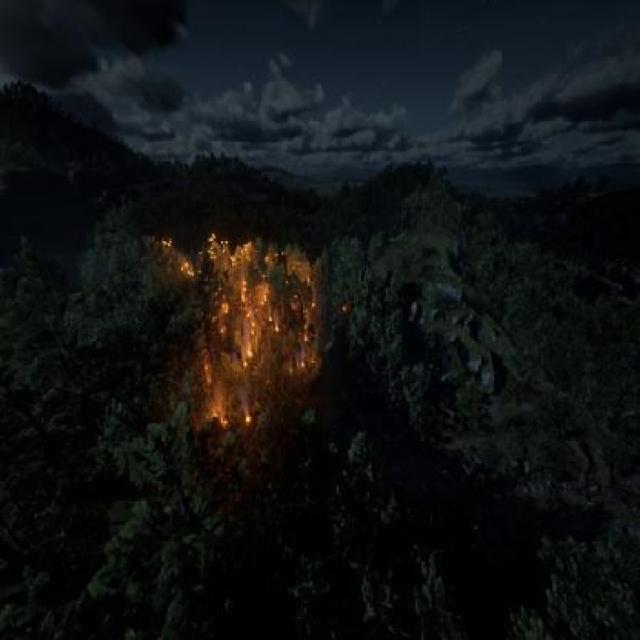Fire: (154, 204, 346, 461)
